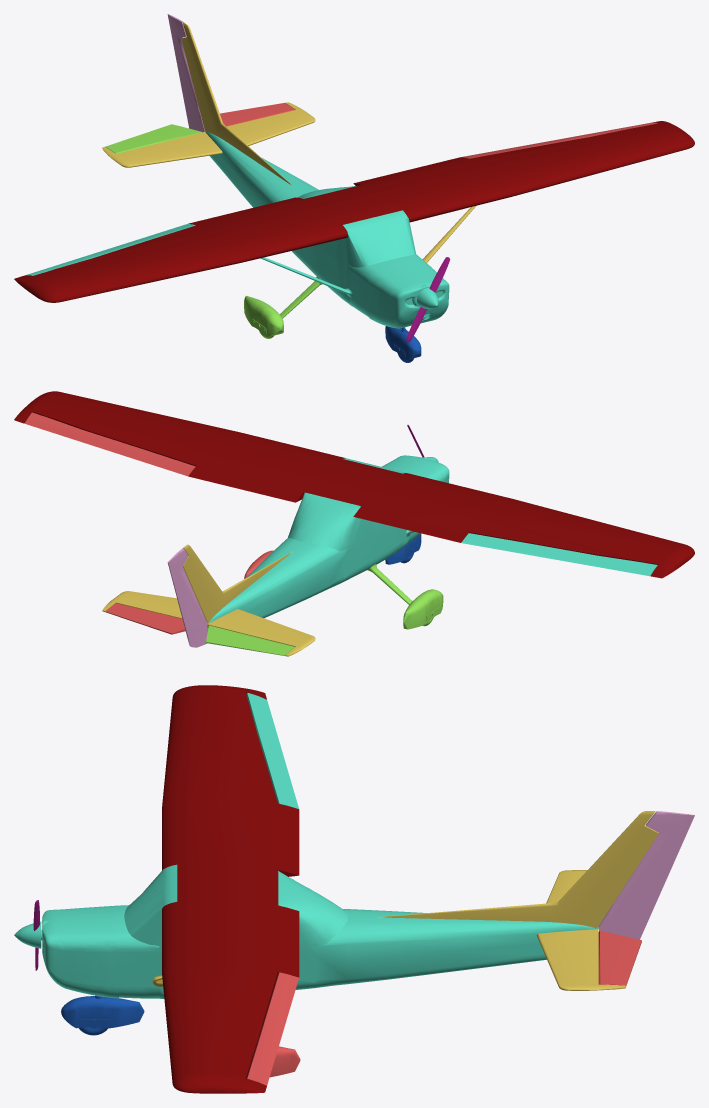
3 renders of one model, top to bottom at view 1: azimuth 30°, elevation 25°; view 2: azimuth 150°, elevation 25°; view 3: azimuth 270°, elevation 25°, orthographic. The views are drawn at different scales.
Parts seen in each view (by area): view 1: Group_014, Cessna_152_1_001, Cessna_152_20_empennage_001, Group_009, Group_3_001, Group_005, Group_2_002, Group_010, Group_2_001, Group_1_002, Group_1_001, Group_012; view 2: Group_014, Cessna_152_1_001, Cessna_152_20_empennage_001, Group_009, Group_1_002, Group_1_001, Group_3_001, Group_005, Group_2_002, Group_2_001, Group_010; view 3: Group_014, Cessna_152_1_001, Cessna_152_20_empennage_001, Group_009, Group_3_001, Group_1_001, Group_010, Group_1_002, Group_2_001, Group_002.
Part boxes in pixels (bbox=[...]): Group_014: bbox=[14, 121, 694, 302]; Cessna_152_1_001: bbox=[205, 132, 449, 328]; Cessna_152_20_empennage_001: bbox=[102, 22, 315, 186]; Group_009: bbox=[297, 186, 415, 267]; Group_3_001: bbox=[167, 14, 205, 132]; Group_005: bbox=[244, 276, 322, 338]; Group_2_002: bbox=[105, 124, 201, 153]; Group_010: bbox=[385, 326, 421, 362]; Group_2_001: bbox=[220, 103, 294, 126]; Group_1_002: bbox=[25, 224, 195, 275]; Group_1_001: bbox=[461, 122, 657, 158]; Group_012: bbox=[406, 257, 450, 341]; Group_014: bbox=[14, 391, 694, 578]; Cessna_152_1_001: bbox=[207, 455, 449, 632]; Cessna_152_20_empennage_001: bbox=[102, 544, 315, 656]; Group_009: bbox=[288, 458, 405, 551]; Group_1_002: bbox=[461, 533, 657, 576]; Group_1_001: bbox=[24, 412, 195, 476]; Group_3_001: bbox=[167, 548, 207, 647]; Group_005: bbox=[367, 564, 443, 629]; Group_2_002: bbox=[206, 625, 294, 655]; Group_2_001: bbox=[105, 603, 185, 634]; Group_010: bbox=[385, 534, 421, 564]; Group_014: bbox=[162, 685, 299, 1093]; Cessna_152_1_001: bbox=[14, 905, 598, 998]; Cessna_152_20_empennage_001: bbox=[377, 811, 688, 990]; Group_009: bbox=[124, 864, 347, 946]; Group_3_001: bbox=[598, 811, 694, 939]; Group_1_001: bbox=[246, 972, 298, 1085]; Group_010: bbox=[61, 995, 144, 1035]; Group_1_002: bbox=[246, 693, 298, 808]; Group_2_001: bbox=[598, 930, 641, 985]; Group_002: bbox=[270, 1046, 300, 1077].
Size of the model in its own units: 718 by 186 by 513.
